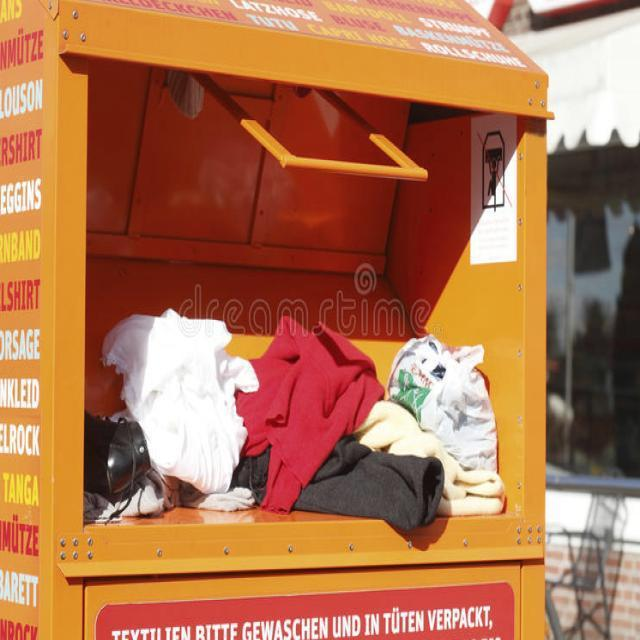clothes: (138, 314, 494, 501)
